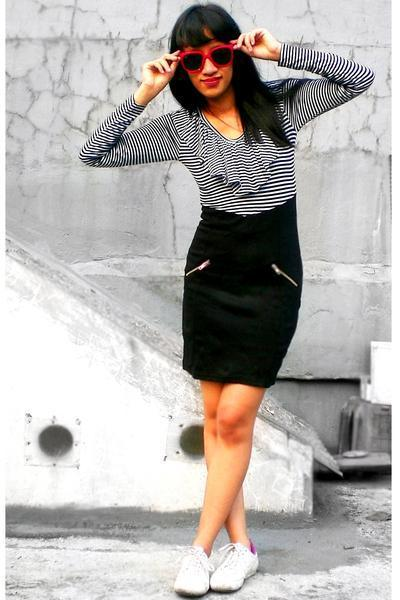shirt: (69, 44, 372, 212)
shoe: (175, 543, 257, 599)
skirt: (182, 192, 302, 388)
sunglass: (165, 39, 245, 83)
